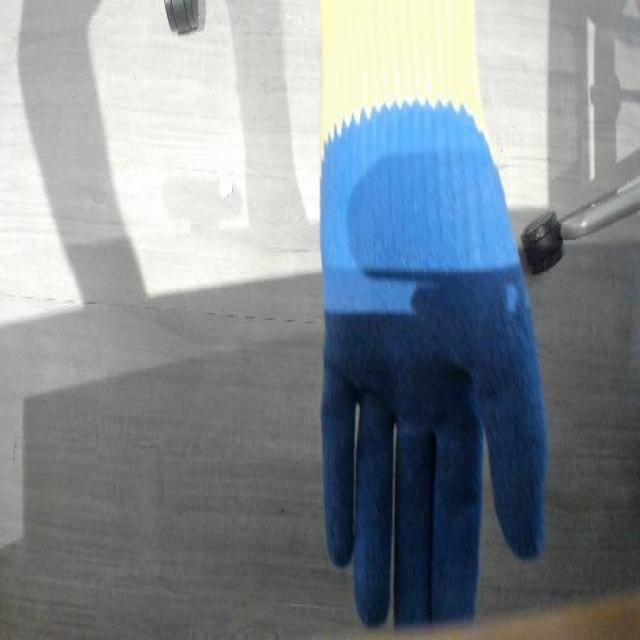Guantes: (286, 0, 566, 606)
